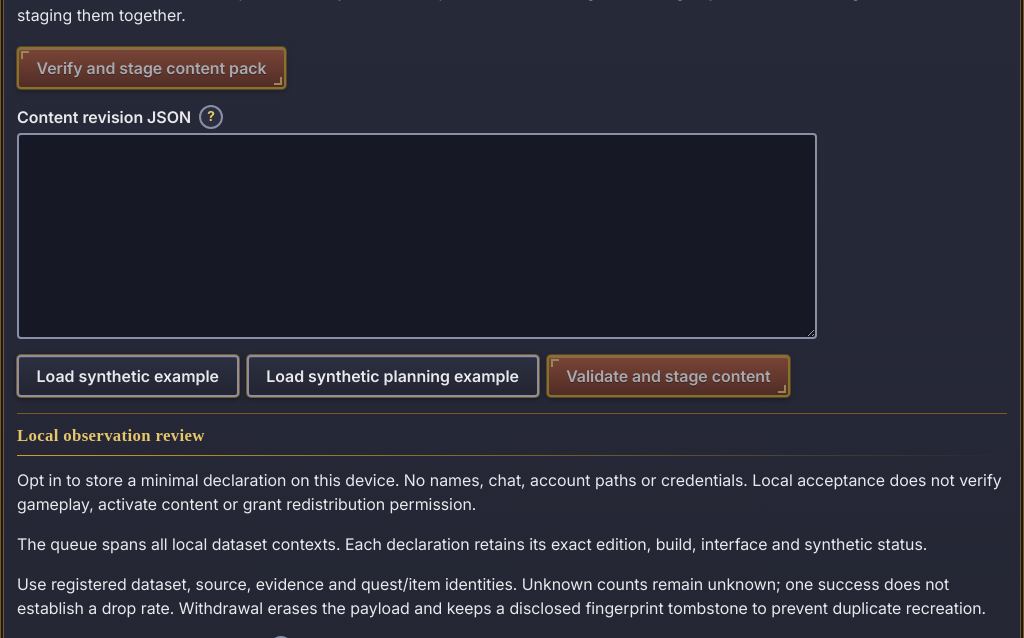
Test: accepts inferred travel with a single activation through the content set command
(page scrolled)
Click the button "Load synthetic example": [128, 376] box x1=17 y1=354 x2=239 y2=397
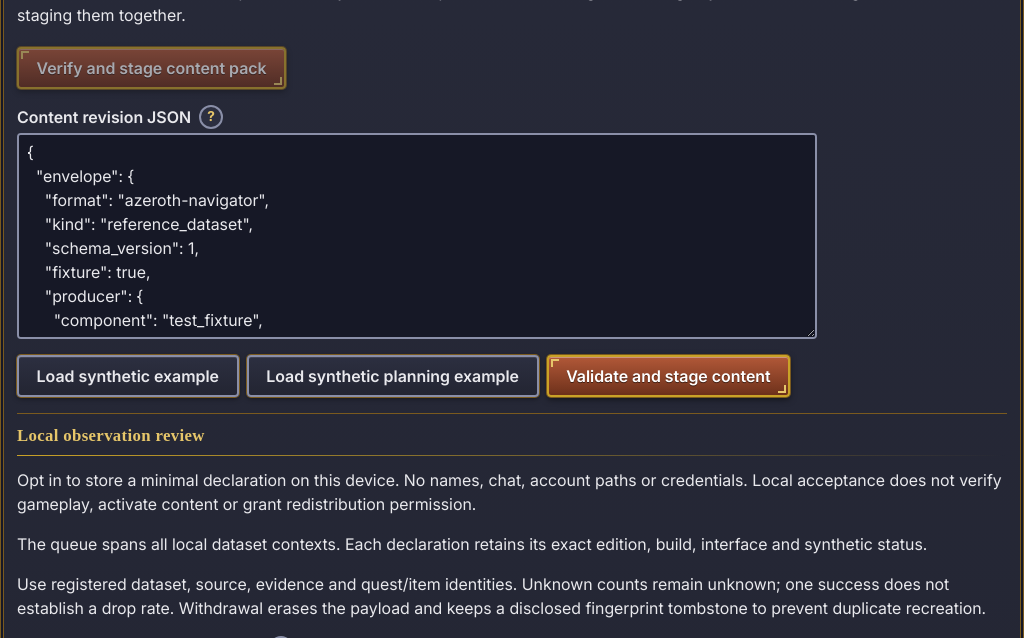
Click the button "Validate and stage content": [668, 376] box x1=546 y1=354 x2=790 y2=397
(page scrolled)
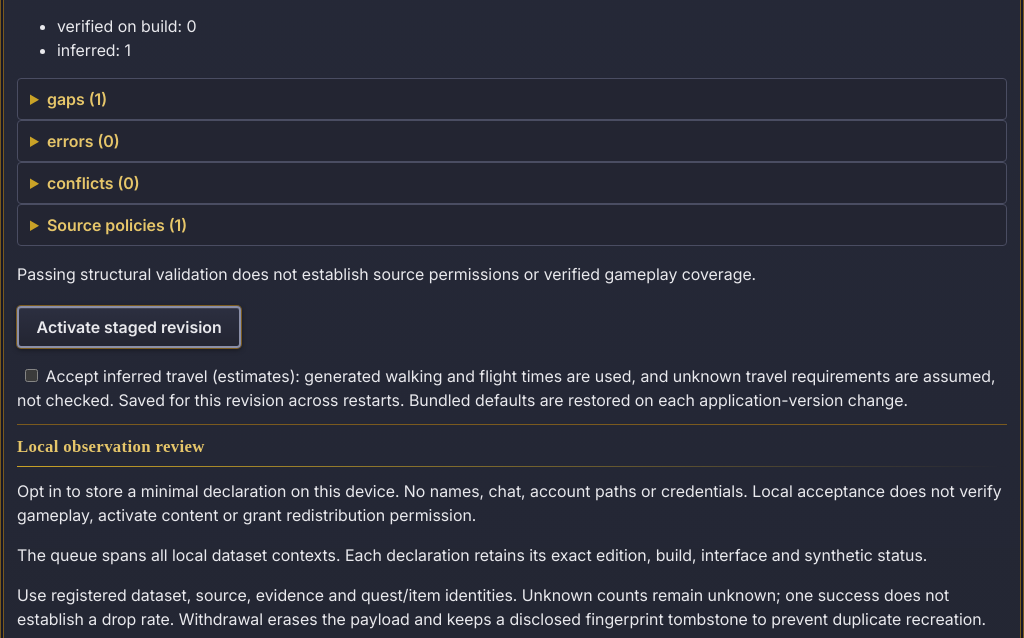
Click the checkbox labelled "Accept inferred travel": [32, 376] box x1=25 y1=369 x2=38 y2=382
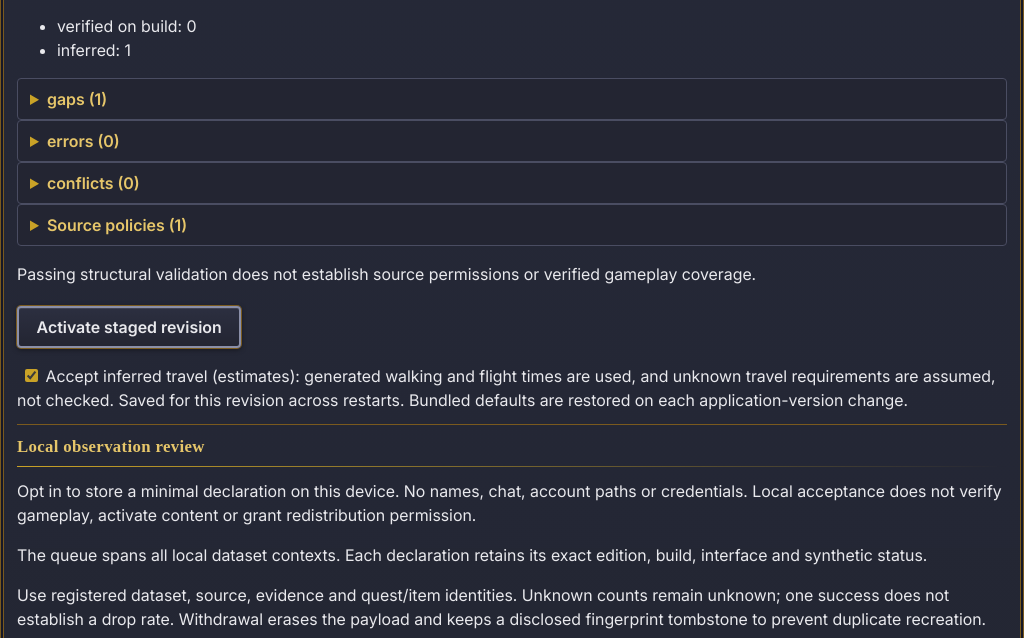
Click the button "Activate staged revision": [129, 327] box x1=17 y1=306 x2=241 y2=348
(page scrolled)
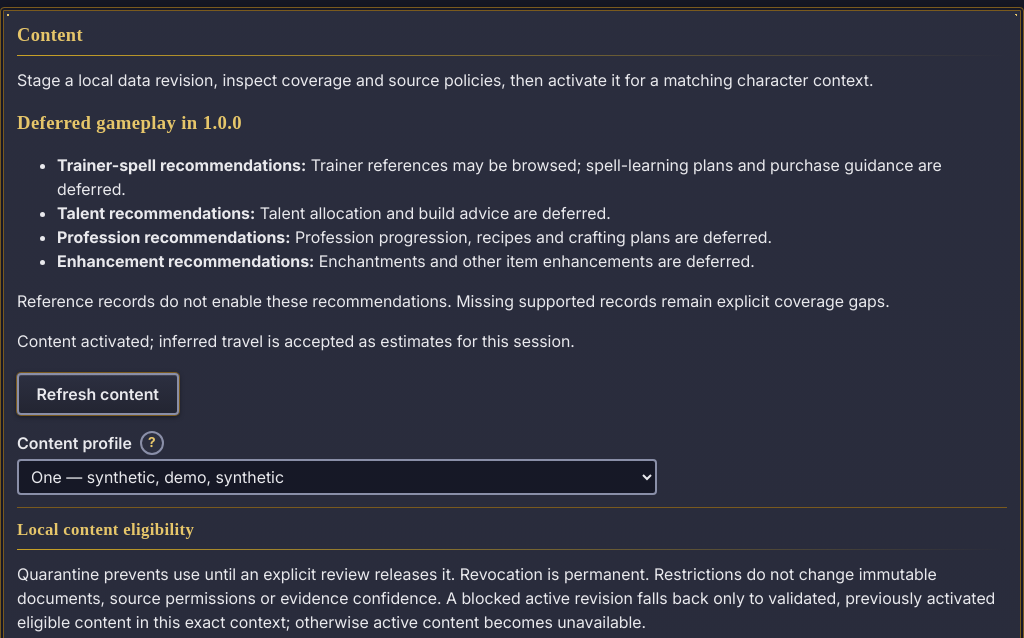
expect the text "Content activated; inferred travel is accepted as estimates for this session." is shown: met, box x1=17 y1=331 x2=575 y2=351
